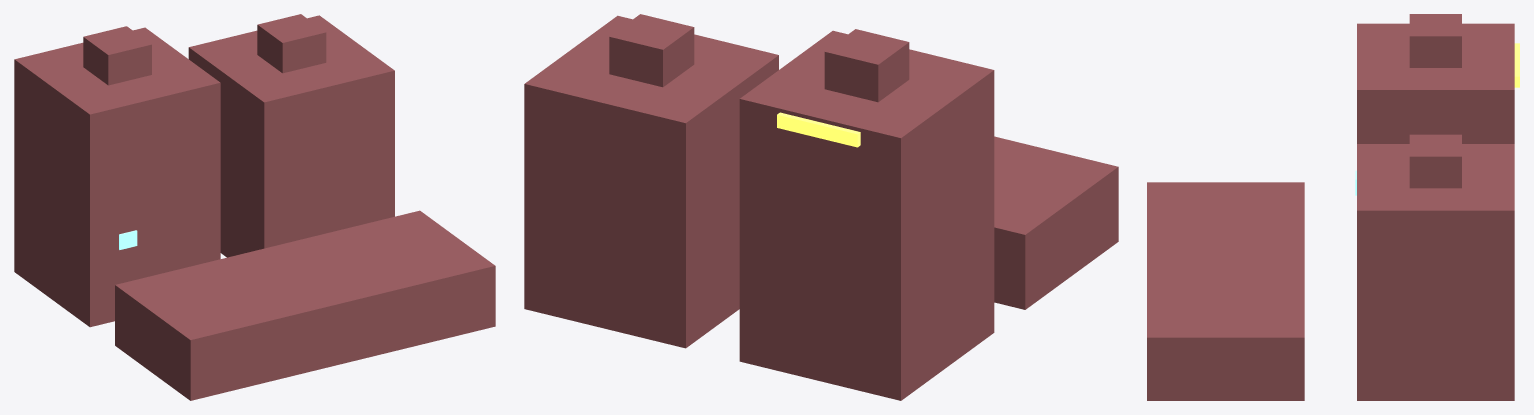
File: energy_plant_lod1-B-QXLQBp.glb
The picture shows the model from 3 angles, left to right: view 1: azimuth 30°, elevation 25°; view 2: azimuth 150°, elevation 25°; view 3: azimuth 270°, elevation 25°; orthographic projection. The views are drawn at different scales.
Parts seen in each view (by area): view 1: body; view 2: body, sign; view 3: body.
Part boxes in pixels (x1=…): body: x1=14, y1=14, x2=495, y2=400; body: x1=524, y1=14, x2=1118, y2=400; sign: x1=777, y1=112, x2=860, y2=147; body: x1=1147, y1=14, x2=1514, y2=400.
Bounding box in the file's own units: 0.84 × 0.64 × 0.852.
